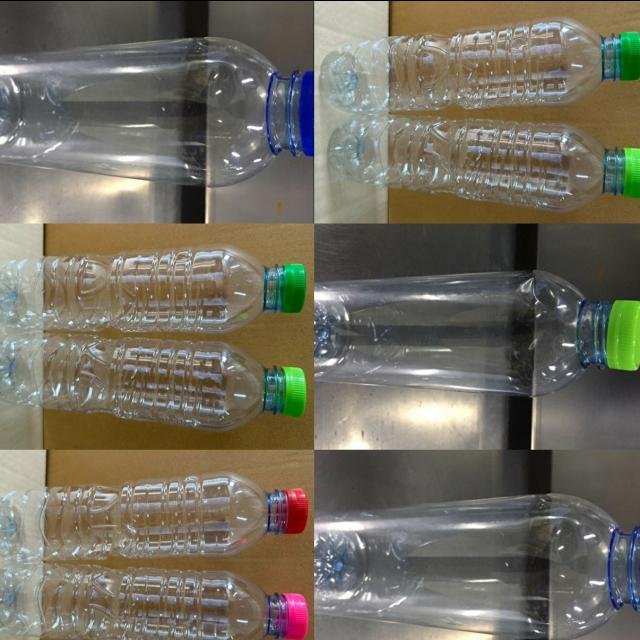plastik: (315, 493, 640, 639), (0, 36, 314, 186), (315, 269, 640, 395), (322, 16, 640, 112), (329, 113, 640, 211), (0, 333, 307, 431), (0, 471, 309, 561), (0, 243, 306, 333), (0, 562, 309, 640)
